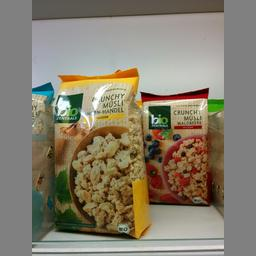cereal: (52, 66, 148, 238), (138, 86, 210, 204)
